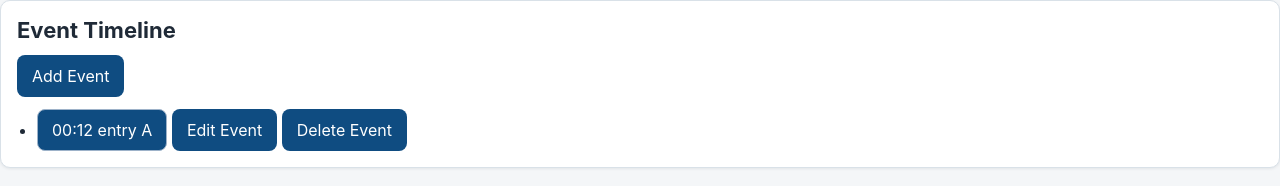
Test case: EventPanel › removes stale events and informs users when delete targets missing resources
Click the button "Delete Event": (344, 130) [282,109,407,151]
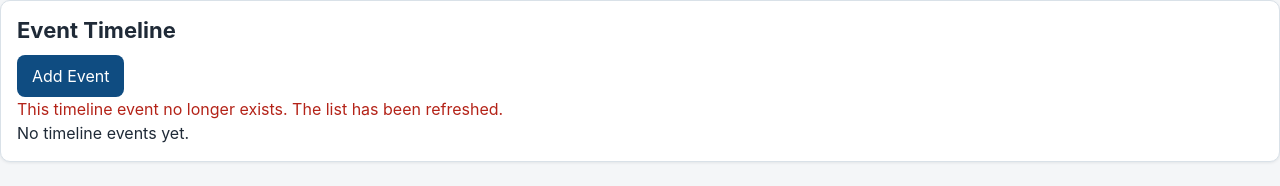
expect the text "This timeline event no longer exists. The list has been refreshed." is shown: met, box [17,99,503,119]
expect the text "No timeline events yet." is shown: met, box [17,123,189,143]
